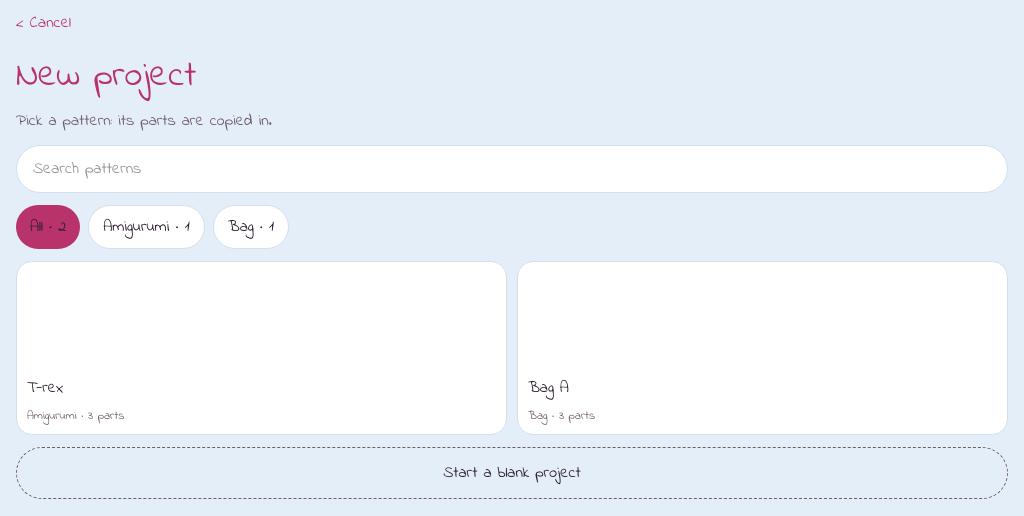
Test: search and type chips narrow the patterns
The image size is (1024, 516).
Click the button "Bag · 1" at (251, 227), box [213,205,289,249]
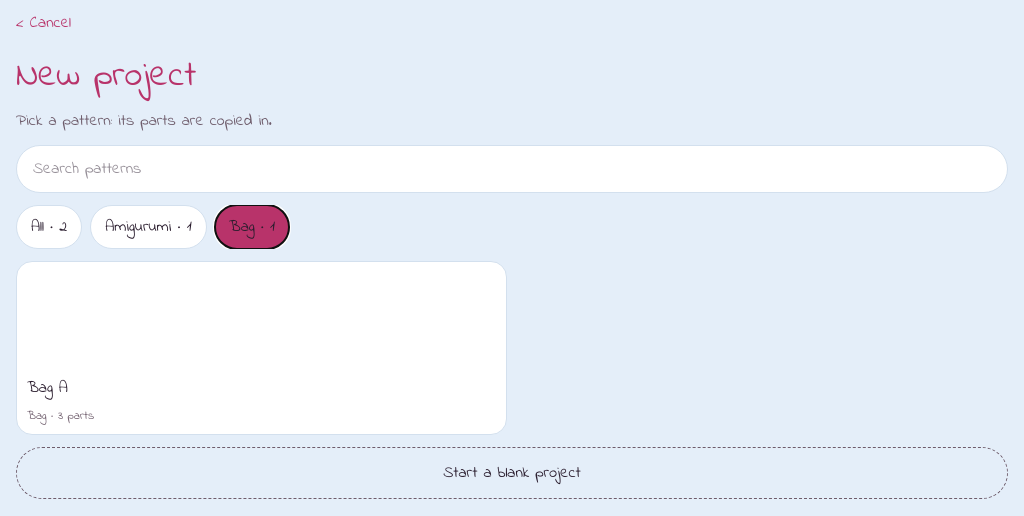
Now the button "T-rex" is gone
Click the button "All · 2" at (49, 227), box [16,205,82,249]
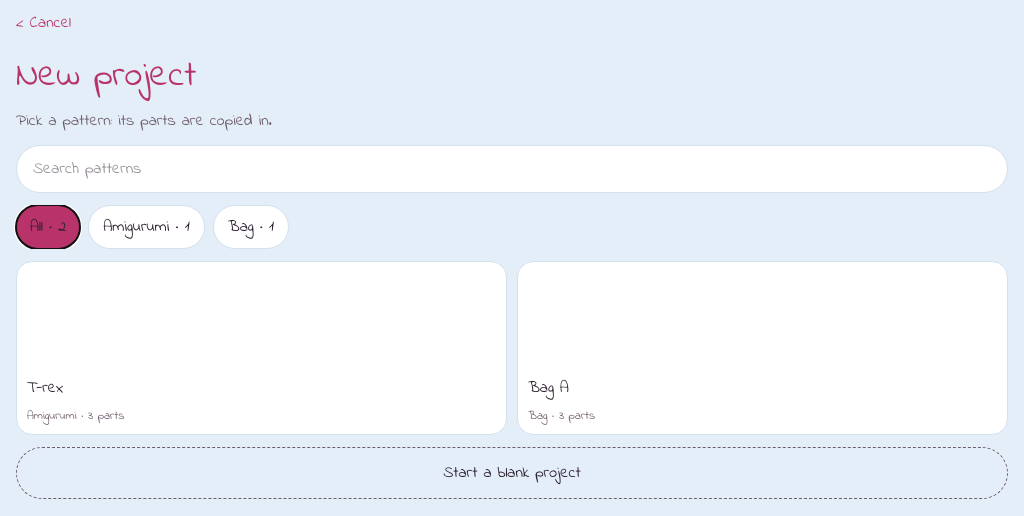
Type "rex" into the search field labelled "Search patterns" at (512, 169), box [16,145,1008,193]
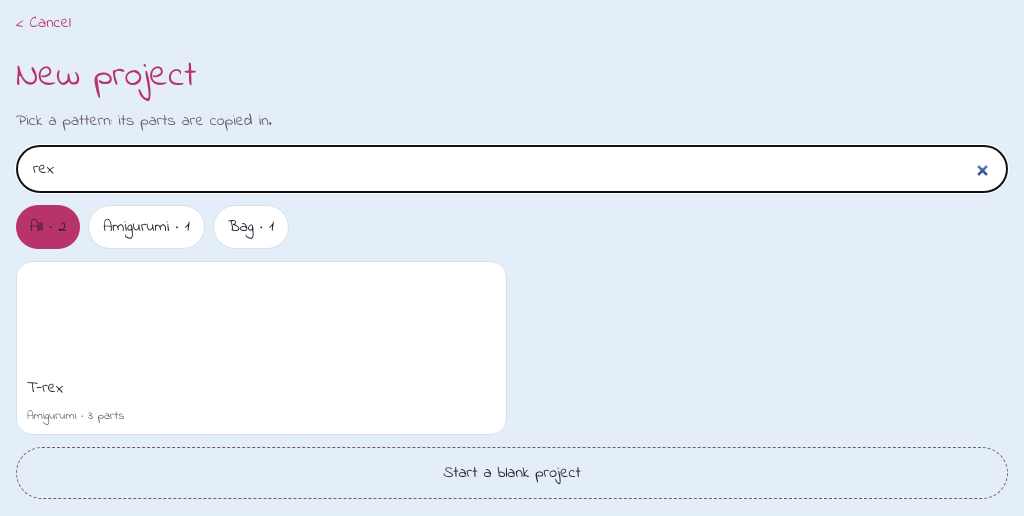
Now the button "Bag A" is gone
